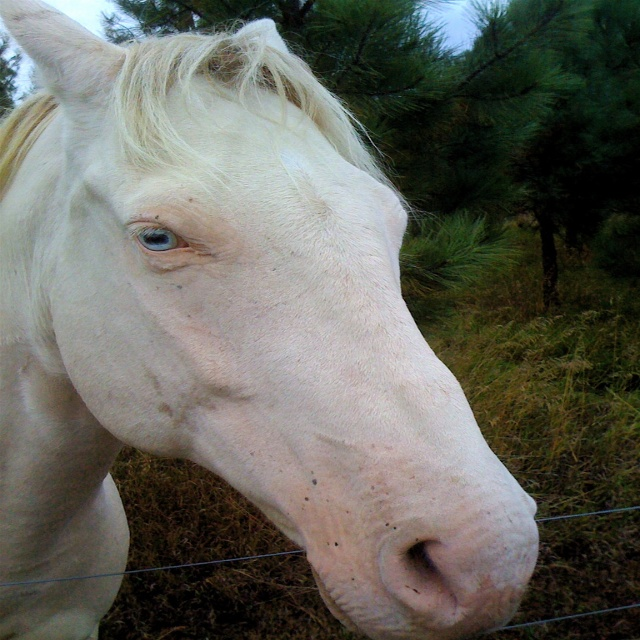Horse: (0, 2, 541, 640)
